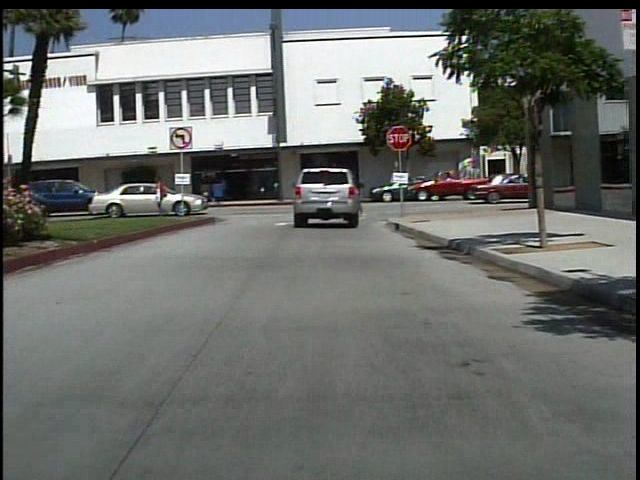person: (341, 169, 367, 226), (150, 173, 174, 218), (211, 177, 228, 206)
